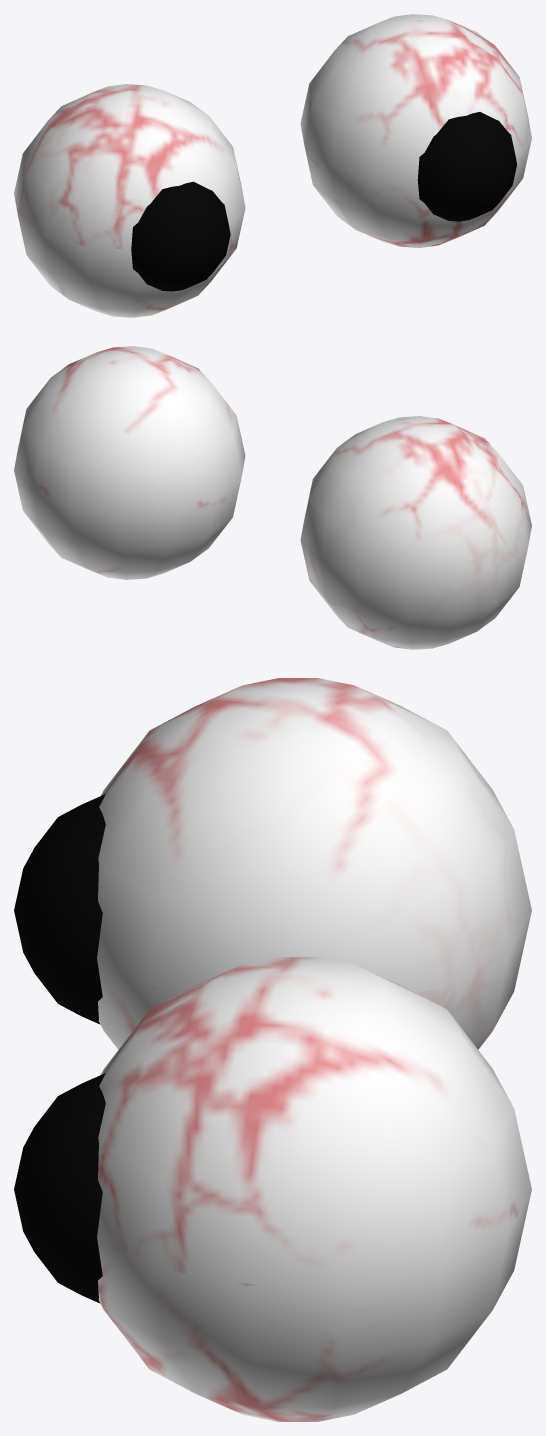
Rendered from OlhosEspugalhados.fbx.
3 renders of one model, top to bottom at view 1: azimuth 30°, elevation 25°; view 2: azimuth 150°, elevation 25°; view 3: azimuth 270°, elevation 25°, orthographic. The views are drawn at different scales.
Parts seen in each view (by area): view 1: OlhosEspugalhados; view 2: OlhosEspugalhados; view 3: OlhosEspugalhados.
Boxes of the visible parts, x1,y1,x2,y2 form: OlhosEspugalhados: [14, 14, 531, 317]; OlhosEspugalhados: [14, 346, 531, 649]; OlhosEspugalhados: [14, 678, 531, 1421].
Bounding box in the file's own units: 168 × 70.43 × 78.09.
